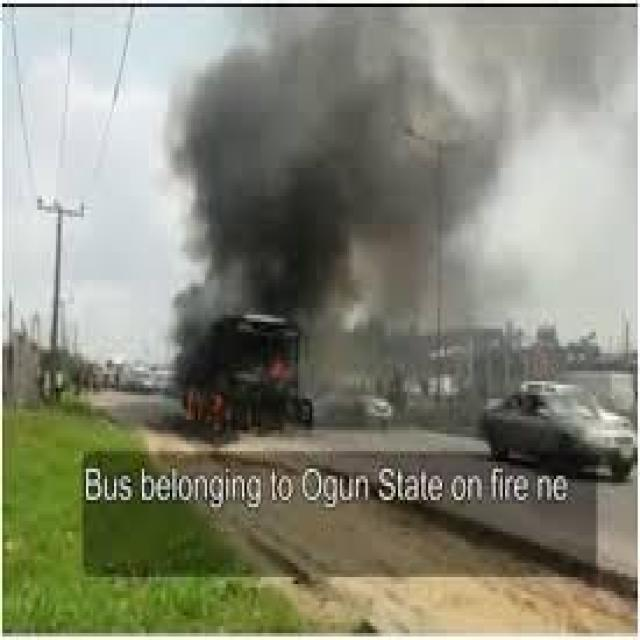Smoke: (168, 11, 627, 412)
